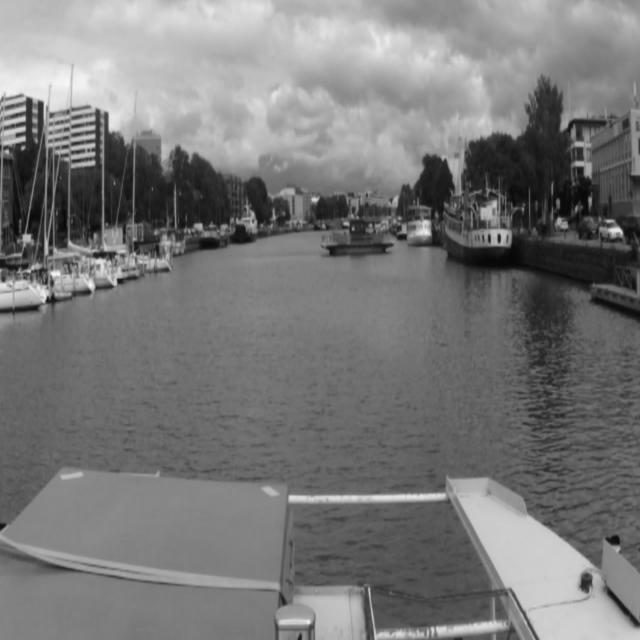ship: (48, 67, 96, 293), (1, 90, 48, 310), (97, 108, 137, 282), (443, 175, 514, 259), (160, 179, 198, 256), (321, 218, 397, 252), (228, 194, 258, 244), (406, 204, 436, 244), (199, 222, 220, 249)
